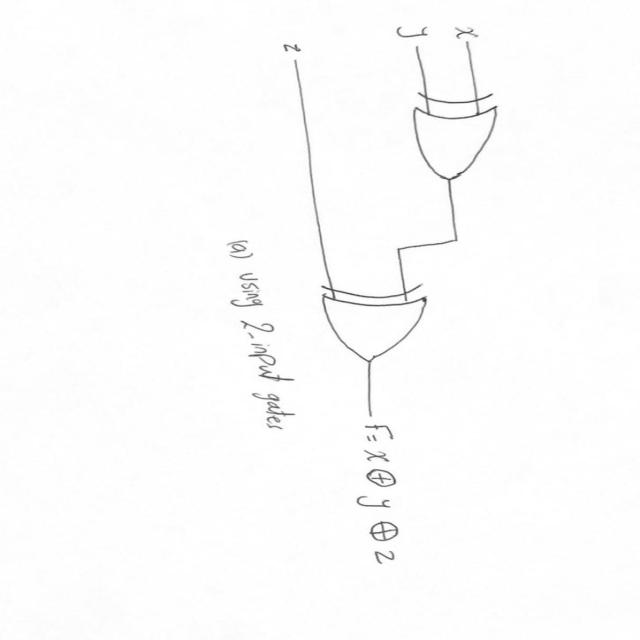XOR: (393, 78, 534, 192), (296, 266, 451, 369)
